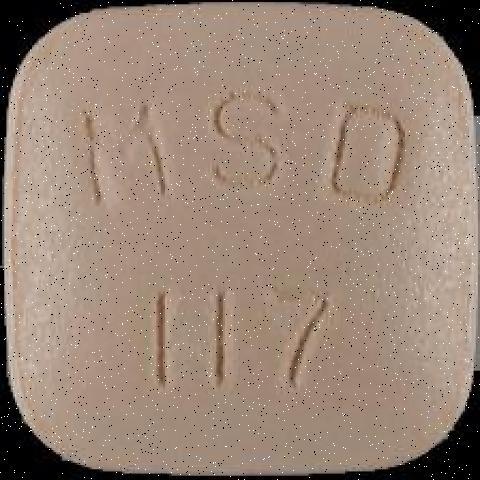Pill: (8, 8, 474, 468)
